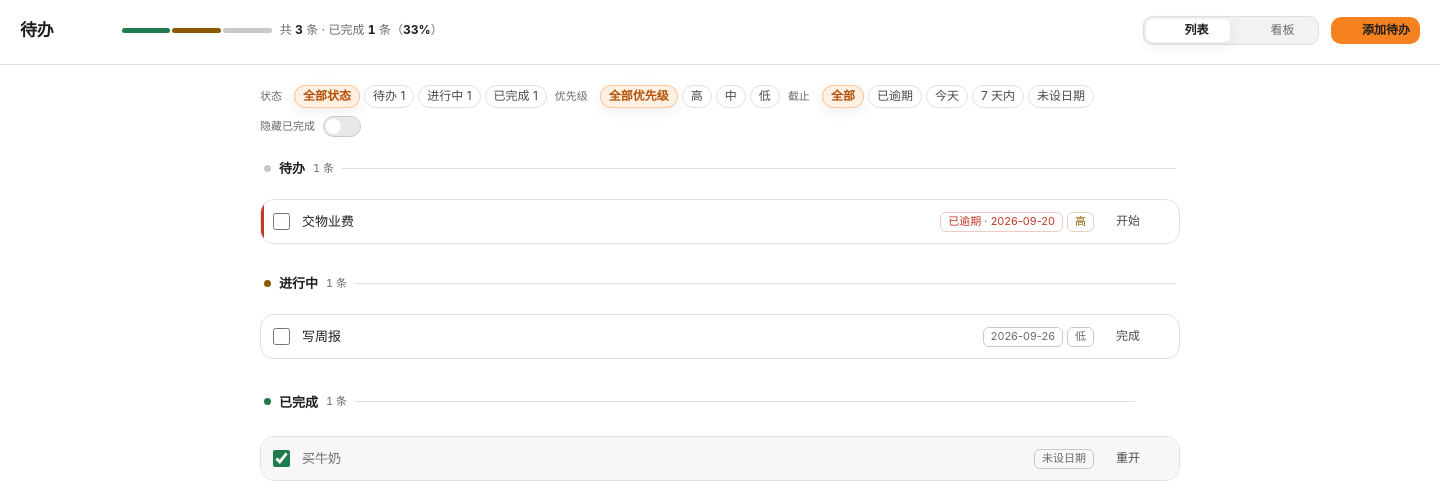
Test case: 筛选（纯本地） › 按截止范围筛选：已逾期 / 今天 / 未设日期
The image size is (1440, 498).
Click the button "已逾期".
click(895, 96)  # box [868,85,922,108]
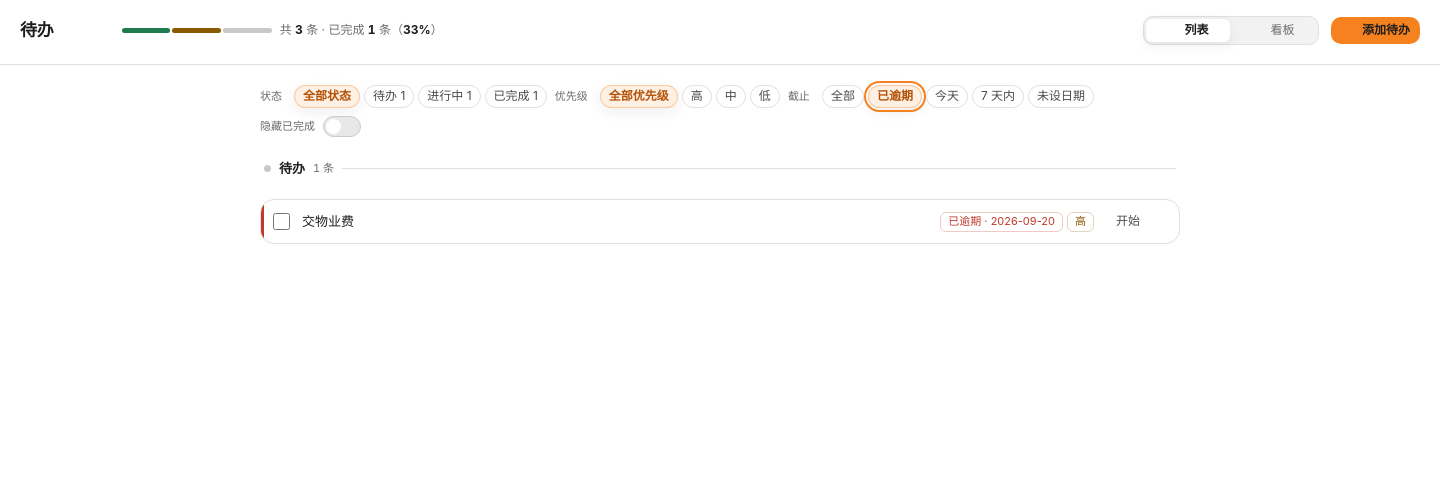
Expected: the text "交物业费" is shown, [302,212,928,231]
Now the number of elements with class "taskrow" is 1, box [261,200,1179,243]
Click the button "全部".
click(843, 96)  # box [822,85,864,108]
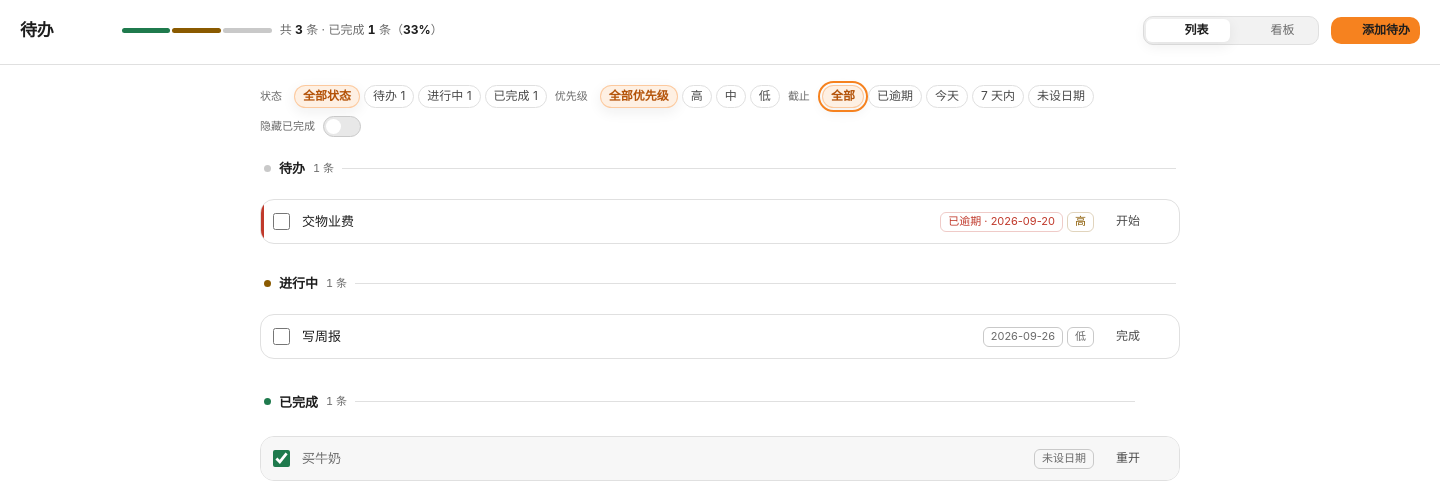
Click the button "未设日期".
click(1061, 96)  # box [1028,85,1094,108]
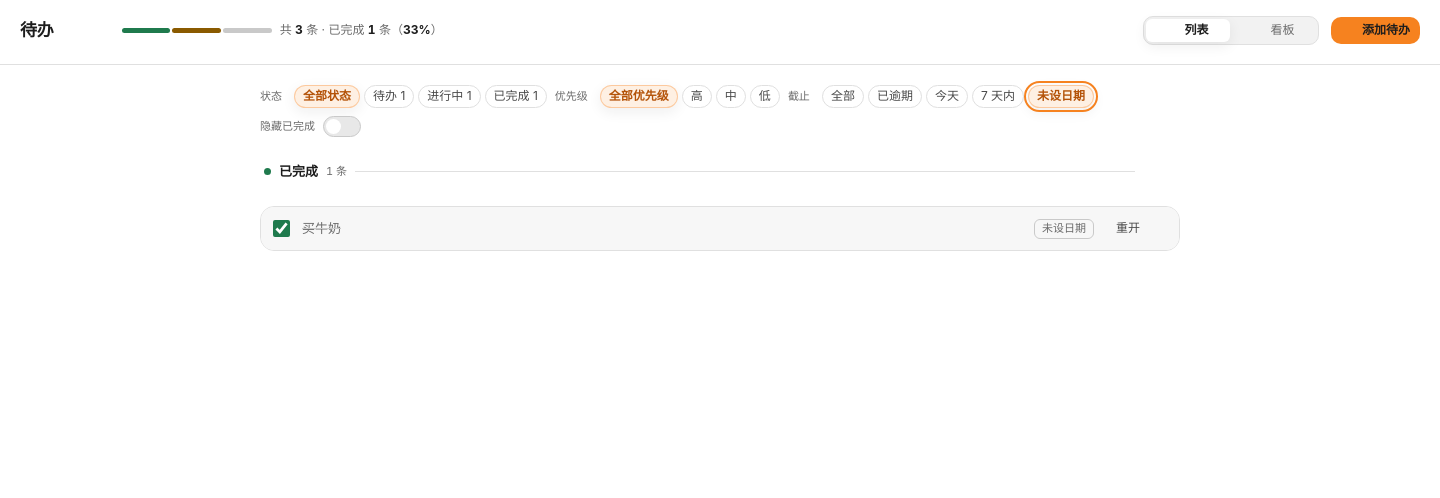
Now the text "买牛奶" is shown, box [302,219,1022,238]
Now the number of elements with class "taskrow" is 1, box [261,207,1179,250]
